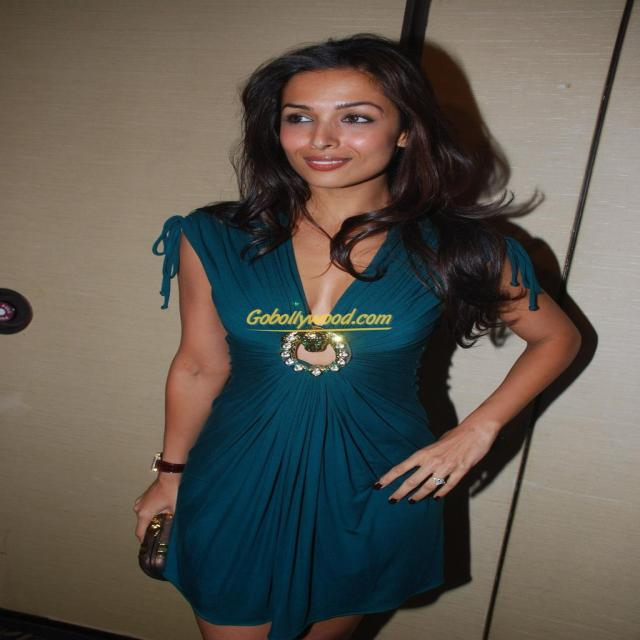Face: (272, 64, 409, 181)
